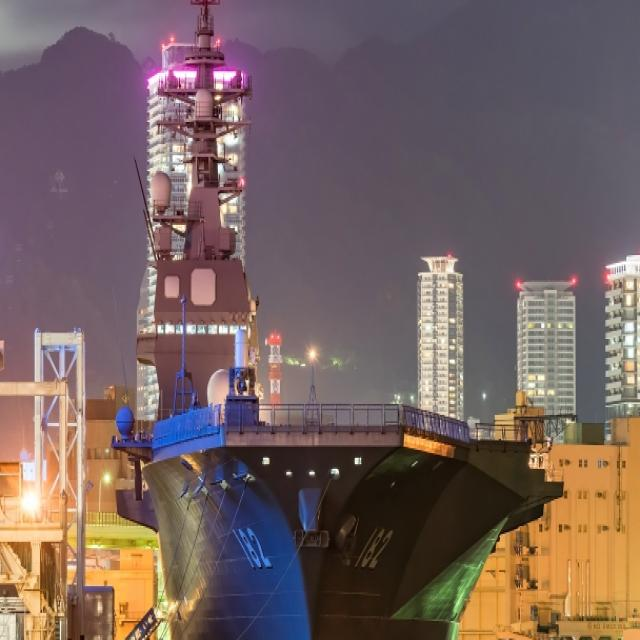Portanaves: (118, 1, 568, 640)
